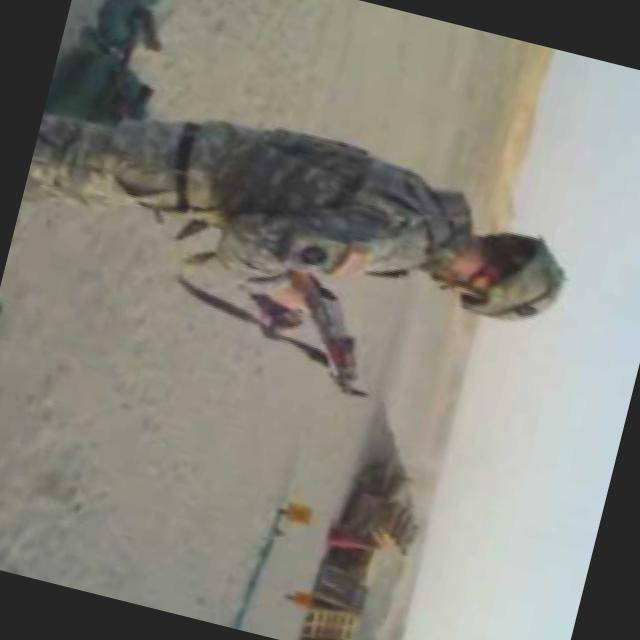long weapon: (228, 244, 401, 411)
